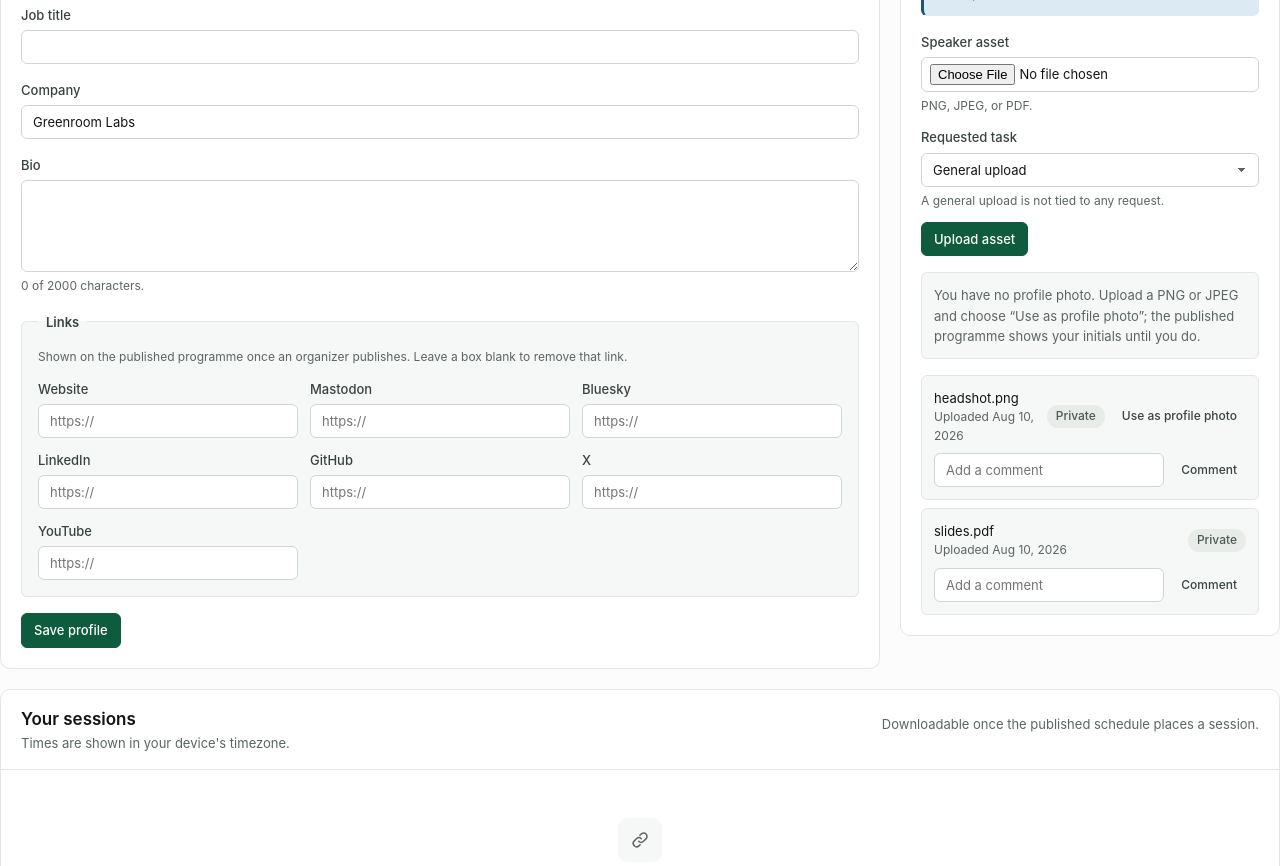
Test case: choosing a speaker headshot › offers the control only for images and sends the speaker's own choice
(page scrolled)
Check: the text "You have no profile photo" is shown, box top-left (934, 287), bottom-right (1238, 344)
Click the button "Use as profile photo". click: coordinates (1179, 416)
box: top-left (1113, 402), bottom-right (1246, 430)
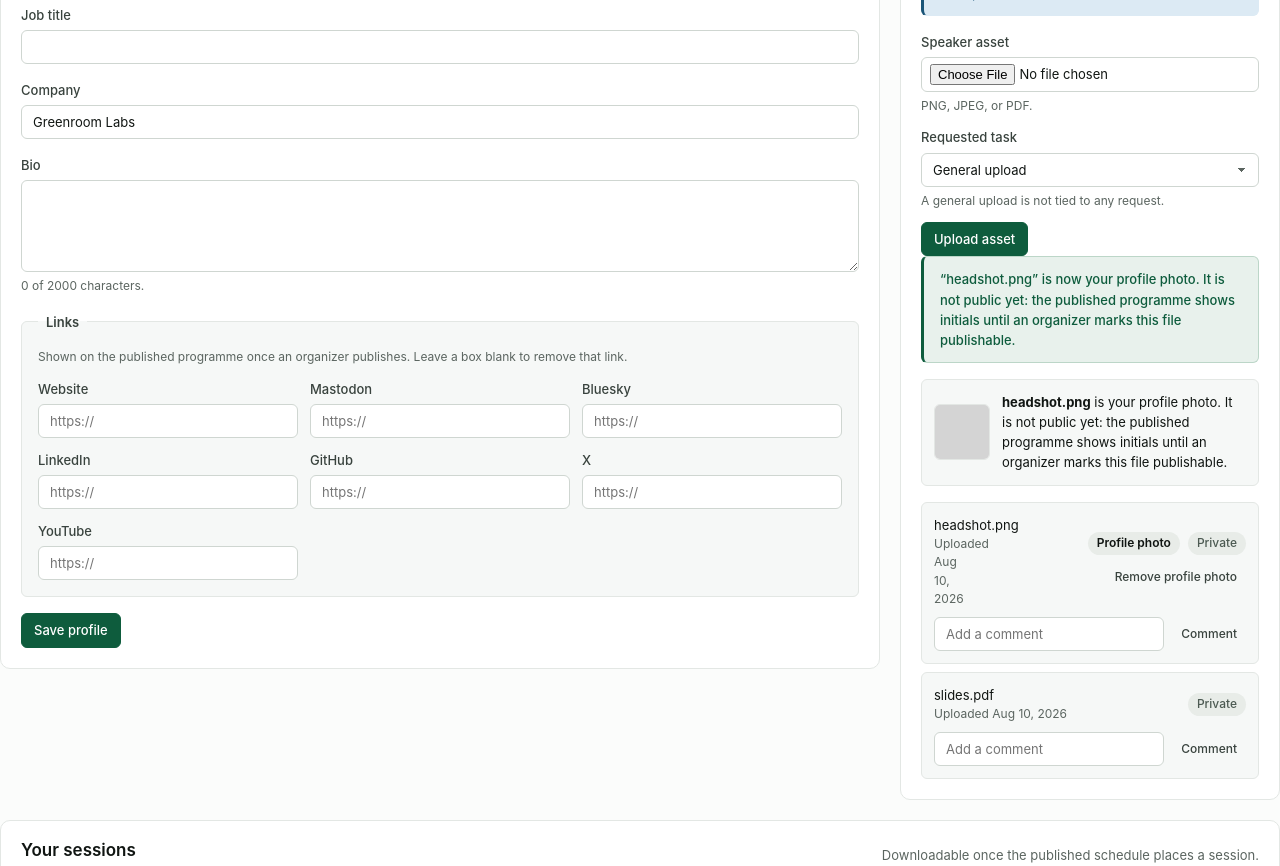
Check: the message shows "is now your profile photo. It is not public yet", box top-left (940, 271), bottom-right (1235, 348)
Check: the text "programme shows initials until an organizer marks this file" is shown 2 times, box top-left (940, 269), bottom-right (1242, 350); top-left (1002, 392), bottom-right (1246, 473)
